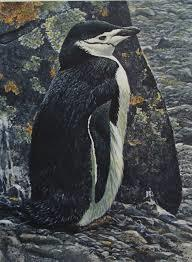chinstrap: (14, 12, 148, 247)
